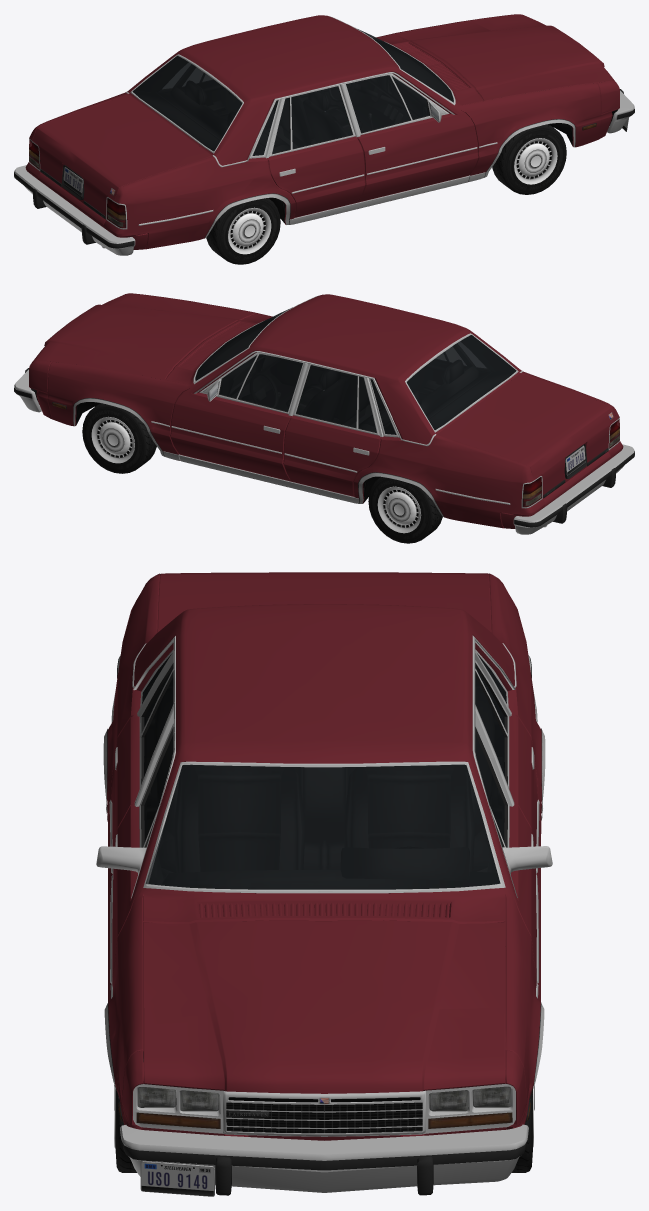
Rendered from cruiser.glb.
The picture shows the model from 3 angles, top to bottom: view 1: azimuth 30°, elevation 25°; view 2: azimuth 150°, elevation 25°; view 3: azimuth 270°, elevation 25°; orthographic projection. The views are drawn at different scales.
Visible parts, largest first — view 1: Fairheaven_LT80_Hood_Fairheaven_LT80_Bodymat_0, Fairheaven_LT80_Taillights_Glass_UCB_Lights_and_Glass_Transp, Fairheaven_LT80_Interior_Trim_UCB_Interior_Trim_0, Fairheaven_LT80_bumper_rear_UCB_BOTTOM_GT_0, Fairheaven_LT80_WheelHubcaps_FL_RB1c_Tire_1k_0, Fairheaven_LT80_Headlights_UCB_Lights_and_Glass_0, Fairheaven_LT80_Numberplate_Rear_Numberplates_Misk_U_0; view 2: Fairheaven_LT80_Hood_Fairheaven_LT80_Bodymat_0, Fairheaven_LT80_Taillights_Glass_UCB_Lights_and_Glass_Transp, Fairheaven_LT80_Interior_Trim_UCB_Interior_Trim_0, Fairheaven_LT80_bumper_rear_UCB_BOTTOM_GT_0, Fairheaven_LT80_WheelHubcaps_FL_RB1c_Tire_1k_0, Fairheaven_LT80_Headlights_UCB_Lights_and_Glass_0, Fairheaven_LT80_Numberplate_Rear_Numberplates_Misk_U_0; view 3: Fairheaven_LT80_Hood_Fairheaven_LT80_Bodymat_0, Fairheaven_LT80_Taillights_Glass_UCB_Lights_and_Glass_Transp, Fairheaven_LT80_bumper_rear_UCB_BOTTOM_GT_0, Fairheaven_LT80_Interior_Trim_UCB_Interior_Trim_0, Fairheaven_LT80_Headlights_UCB_Lights_and_Glass_0, Fairheaven_LT80_Numberplate_Rear_Numberplates_Misk_U_0, Fairheaven_LT80_WheelHubcaps_FL_RB1c_Tire_1k_0.
Boxes of the visible parts, x1,y1,x2,y2 form: Fairheaven_LT80_Hood_Fairheaven_LT80_Bodymat_0: [25, 14, 619, 249]; Fairheaven_LT80_Taillights_Glass_UCB_Lights_and_Glass_Transp: [29, 29, 453, 226]; Fairheaven_LT80_Interior_Trim_UCB_Interior_Trim_0: [40, 39, 453, 207]; Fairheaven_LT80_bumper_rear_UCB_BOTTOM_GT_0: [14, 16, 634, 255]; Fairheaven_LT80_WheelHubcaps_FL_RB1c_Tire_1k_0: [206, 124, 566, 264]; Fairheaven_LT80_Headlights_UCB_Lights_and_Glass_0: [29, 140, 126, 228]; Fairheaven_LT80_Numberplate_Rear_Numberplates_Misk_U_0: [63, 118, 628, 196]; Fairheaven_LT80_Hood_Fairheaven_LT80_Bodymat_0: [29, 293, 623, 528]; Fairheaven_LT80_Taillights_Glass_UCB_Lights_and_Glass_Transp: [195, 307, 619, 505]; Fairheaven_LT80_Interior_Trim_UCB_Interior_Trim_0: [195, 319, 515, 434]; Fairheaven_LT80_bumper_rear_UCB_BOTTOM_GT_0: [14, 295, 634, 534]; Fairheaven_LT80_WheelHubcaps_FL_RB1c_Tire_1k_0: [82, 403, 442, 543]; Fairheaven_LT80_Headlights_UCB_Lights_and_Glass_0: [522, 418, 619, 507]; Fairheaven_LT80_Numberplate_Rear_Numberplates_Misk_U_0: [565, 445, 585, 475]; Fairheaven_LT80_Hood_Fairheaven_LT80_Bodymat_0: [107, 572, 541, 1140]; Fairheaven_LT80_Taillights_Glass_UCB_Lights_and_Glass_Transp: [136, 653, 512, 1128]; Fairheaven_LT80_bumper_rear_UCB_BOTTOM_GT_0: [96, 635, 552, 1195]; Fairheaven_LT80_Interior_Trim_UCB_Interior_Trim_0: [142, 655, 506, 893]; Fairheaven_LT80_Headlights_UCB_Lights_and_Glass_0: [138, 1087, 510, 1111]; Fairheaven_LT80_Numberplate_Rear_Numberplates_Misk_U_0: [140, 1161, 214, 1196]; Fairheaven_LT80_WheelHubcaps_FL_RB1c_Tire_1k_0: [114, 753, 534, 1172].
Size of the model in its own units: 5 by 1.35 by 1.83.
Materials: 8 (7 with a texture image).
